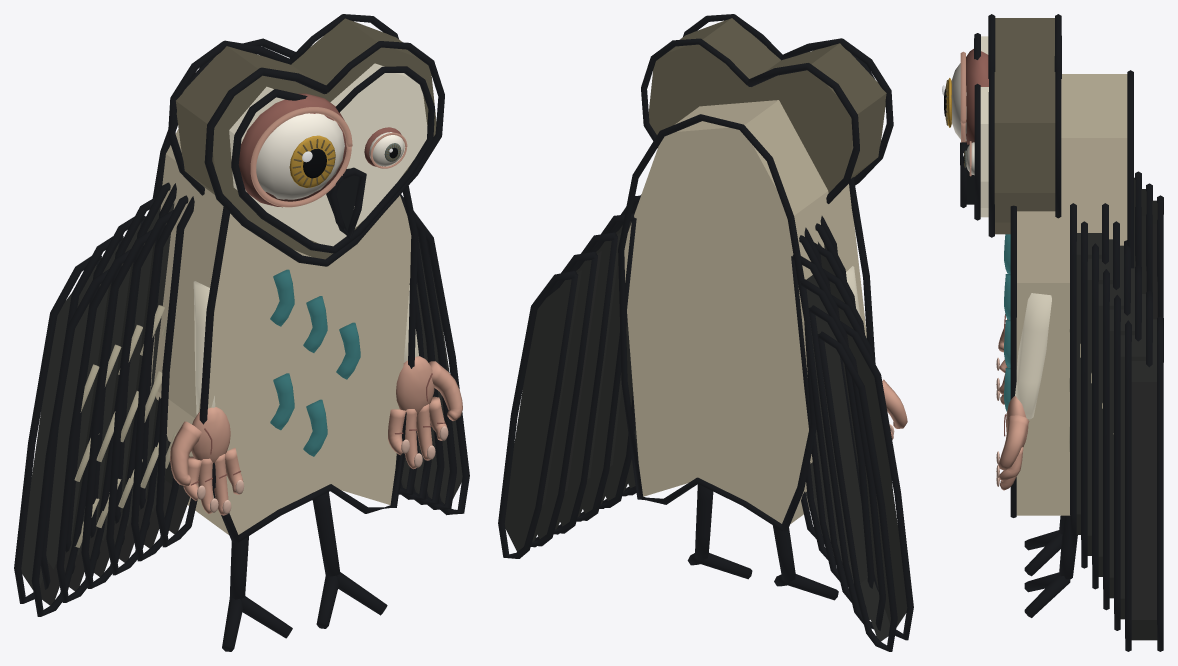
The model's file is barn_owl.glb.
The picture shows the model from 3 angles, left to right: view 1: azimuth 30°, elevation 25°; view 2: azimuth 150°, elevation 25°; view 3: azimuth 270°, elevation 25°; orthographic projection. The views are drawn at different scales.
Visible parts, largest first — view 1: barn_owl_Game; view 2: barn_owl_Game; view 3: barn_owl_Game.
Boxes of the visible parts, x1,y1,x2,y2 form: barn_owl_Game: (14,14,469,651); barn_owl_Game: (498,14,913,651); barn_owl_Game: (942,14,1163,651).
Size of the model in its own units: 2.92 by 3.8 by 1.41.
